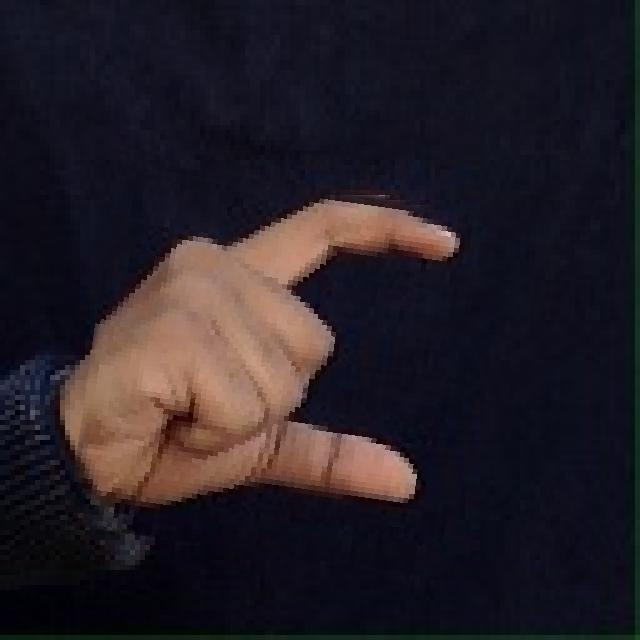C: (79, 172, 488, 566)
